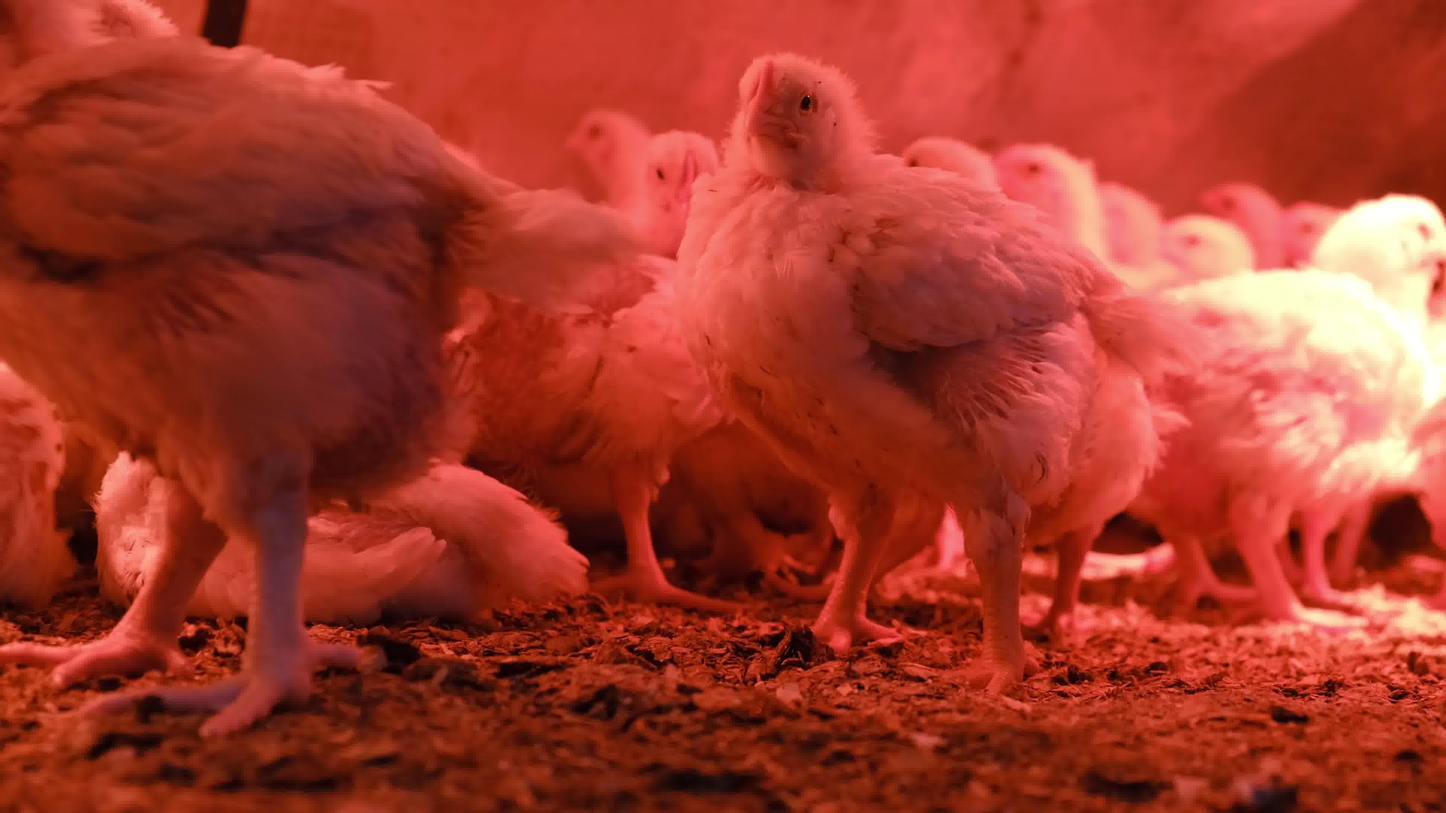AbNormal: (70, 423, 623, 644), (0, 326, 124, 694)
Normal: (0, 6, 450, 734), (704, 34, 1139, 689), (1152, 211, 1446, 640), (1092, 171, 1269, 395), (1002, 132, 1107, 322), (599, 111, 723, 271), (1209, 162, 1358, 275), (531, 68, 625, 218), (909, 132, 1017, 224)
